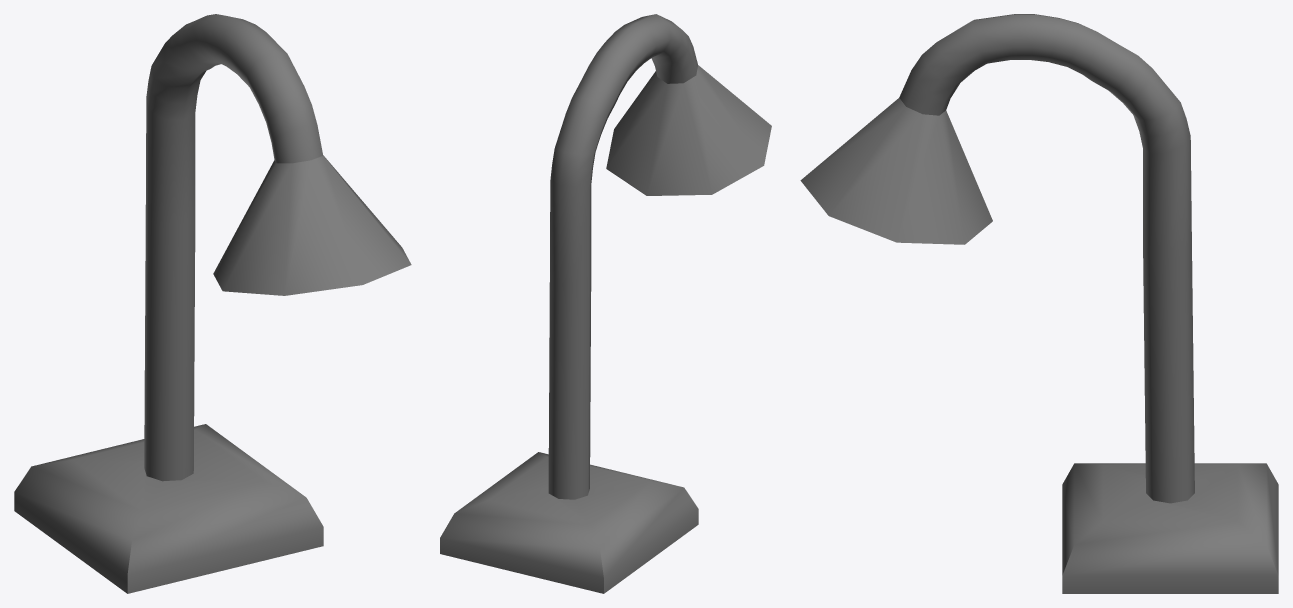
Rendered from Desk-Lamp.fbx.
3 views of the same model, side by side, from view 1: azimuth 30°, elevation 25°; view 2: azimuth 150°, elevation 25°; view 3: azimuth 270°, elevation 25° (orthographic). The views are drawn at different scales.
Parts seen in each view (by area): view 1: Desk-Lamp; view 2: Desk-Lamp; view 3: Desk-Lamp.
Boxes of the visible parts, x1=… form: Desk-Lamp: x1=14, y1=14, x2=411, y2=593; Desk-Lamp: x1=440, y1=14, x2=771, y2=593; Desk-Lamp: x1=800, y1=14, x2=1278, y2=593.
Bounding box in the file's own units: 0.1548 × 0.4216 × 0.3425.
